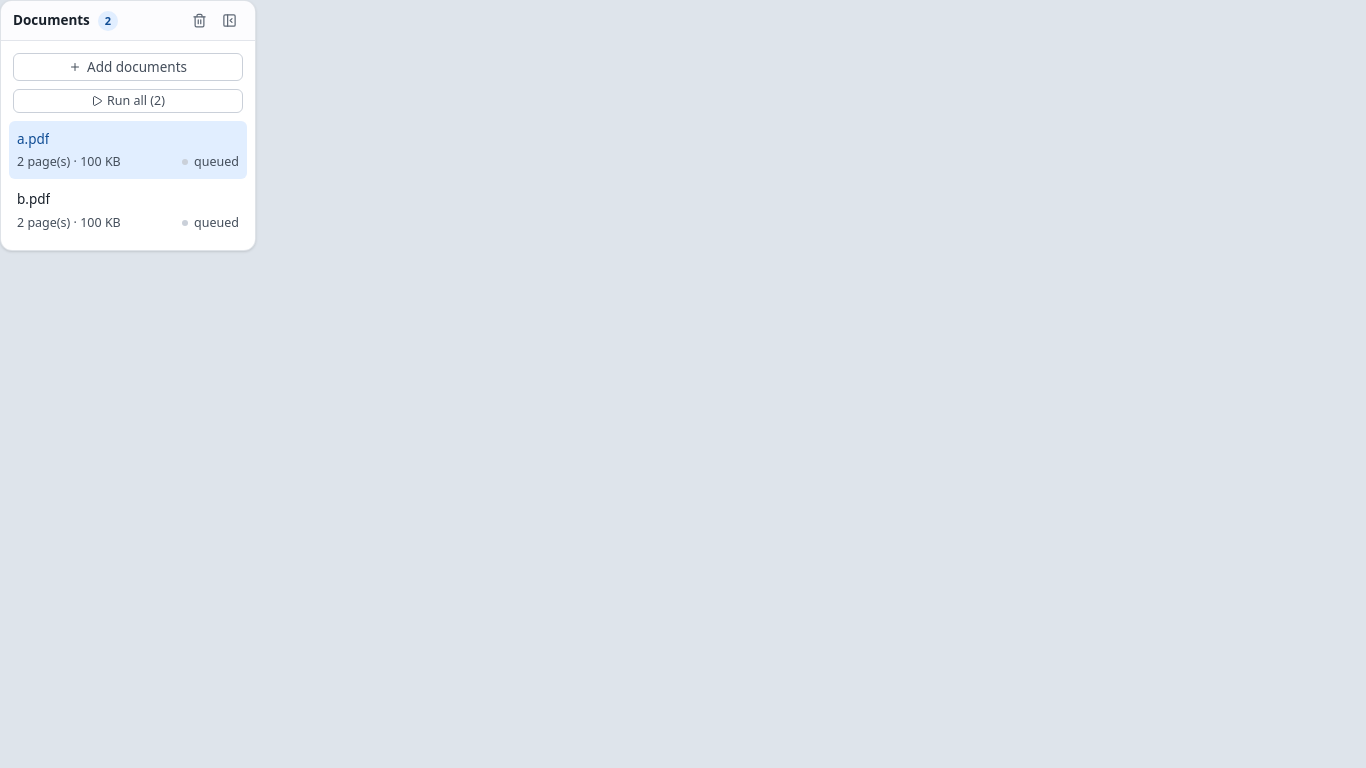
Scenario: QueueRail clear-all guard › clicking the trash icon opens a confirmation without clearing anything
Click the button named "delete all".
click(199, 20)  # box [185,6,213,34]
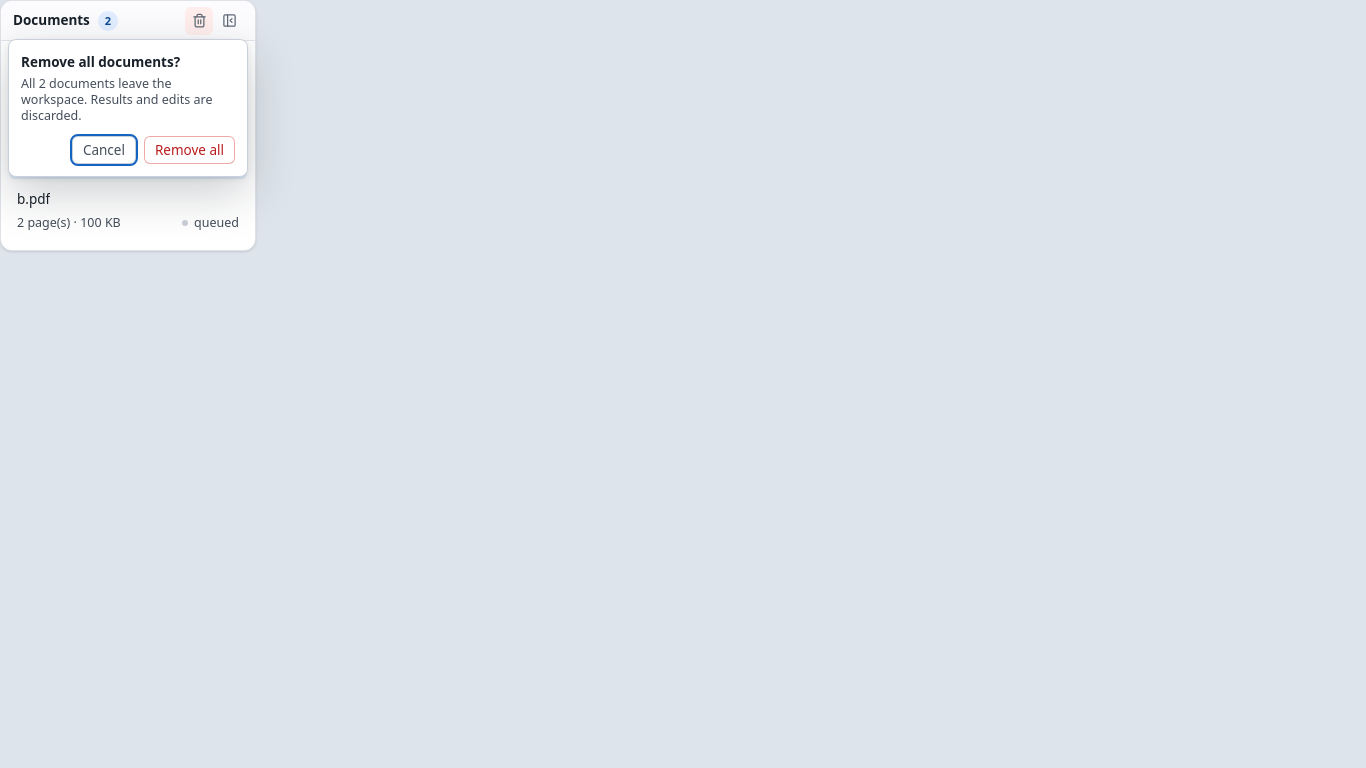
expect the text "b.pdf" is shown: met, box [17,189,50,210]
expect the dialog is shown: met, box [8,38,248,177]
